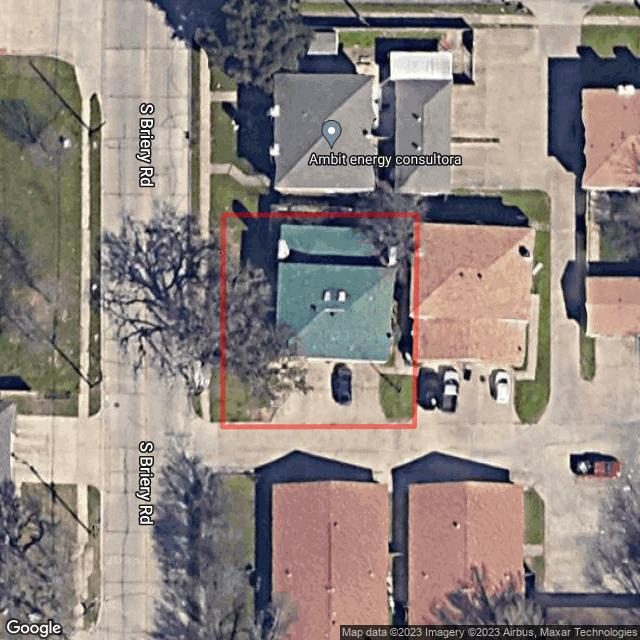Driveway: (269, 358, 391, 426)
Extra Lawn: (189, 214, 203, 419), (208, 214, 221, 423)
Extra Sidewalk: (199, 215, 210, 422)
House: (275, 224, 396, 363)
Other: (266, 218, 358, 241)
Sidewalk: (379, 265, 412, 376), (225, 422, 270, 425), (388, 420, 412, 425)
